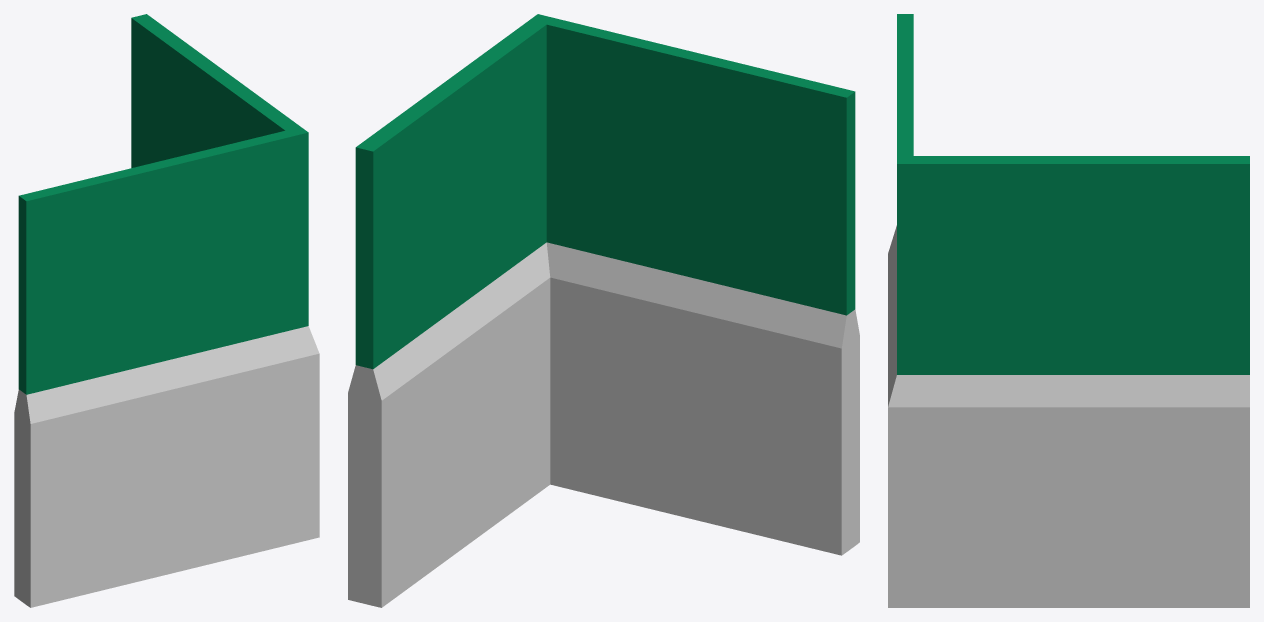
Rendered from wall_5.fbx.
The picture shows the model from 3 angles, left to right: view 1: azimuth 30°, elevation 25°; view 2: azimuth 150°, elevation 25°; view 3: azimuth 270°, elevation 25°; orthographic projection. The views are drawn at different scales.
Parts seen in each view (by area): view 1: WALL_1.004; view 2: WALL_1.004; view 3: WALL_1.004.
Boxes of the visible parts, left/top/right/bottom form: WALL_1.004: left=14, top=14, right=319, bottom=607; WALL_1.004: left=348, top=14, right=859, bottom=607; WALL_1.004: left=888, top=14, right=1249, bottom=607.
Size of the model in its own units: 3.39 by 4.53 by 3.37.
